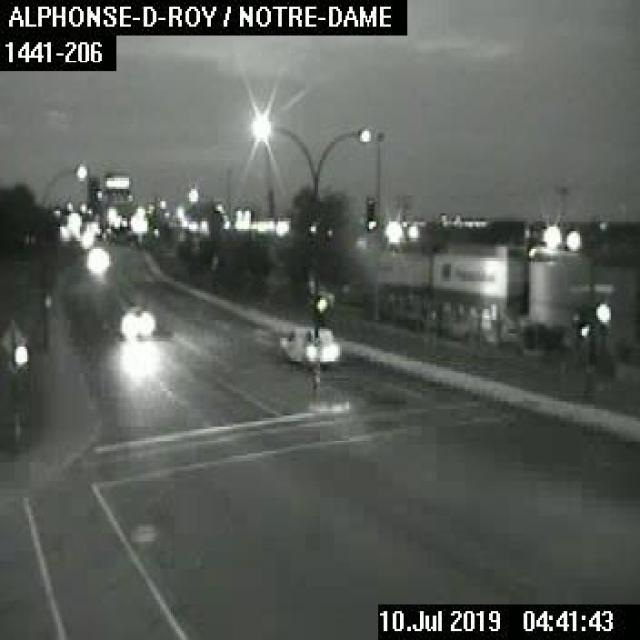vehicle: (275, 322, 338, 364), (116, 301, 157, 341)
